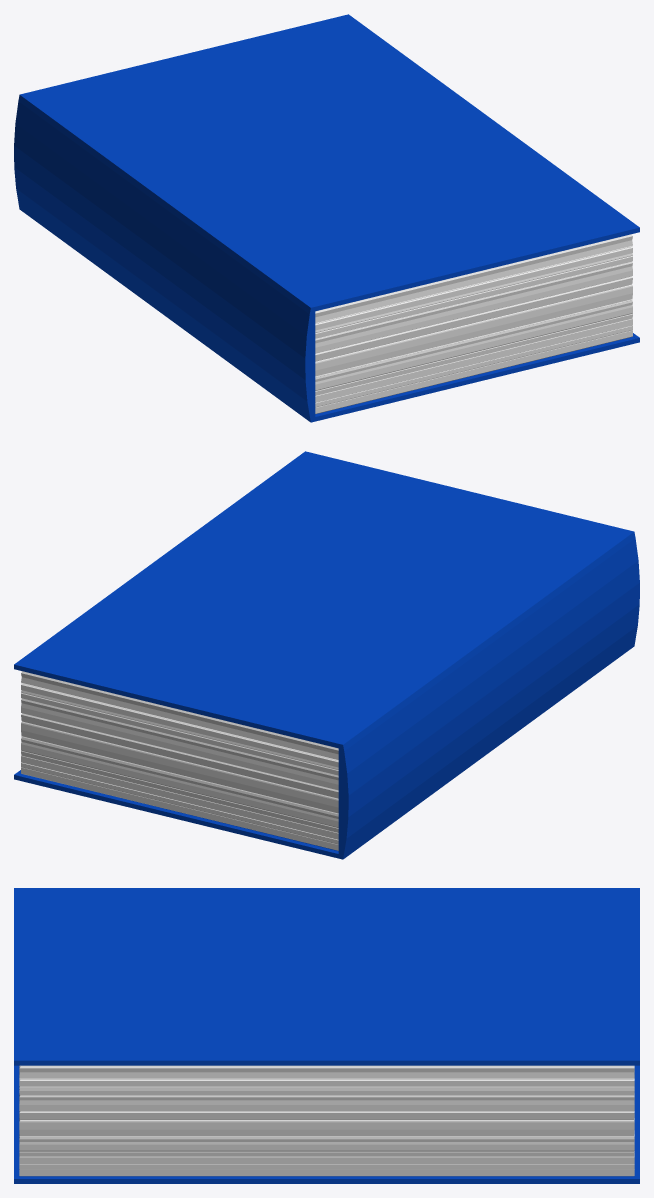
File: book.fbx
3 renders of one model, top to bottom at view 1: azimuth 30°, elevation 25°; view 2: azimuth 150°, elevation 25°; view 3: azimuth 270°, elevation 25°, orthographic. The views are drawn at different scales.
Parts seen in each view (by area): view 1: boktillgyarb; view 2: boktillgyarb; view 3: boktillgyarb.
Boxes of the visible parts, x1=… form: boktillgyarb: x1=14, y1=14, x2=639, y2=422; boktillgyarb: x1=14, y1=451, x2=639, y2=859; boktillgyarb: x1=14, y1=888, x2=639, y2=1183.
Bounding box in the file's own units: 15252 × 5000 × 23000.
